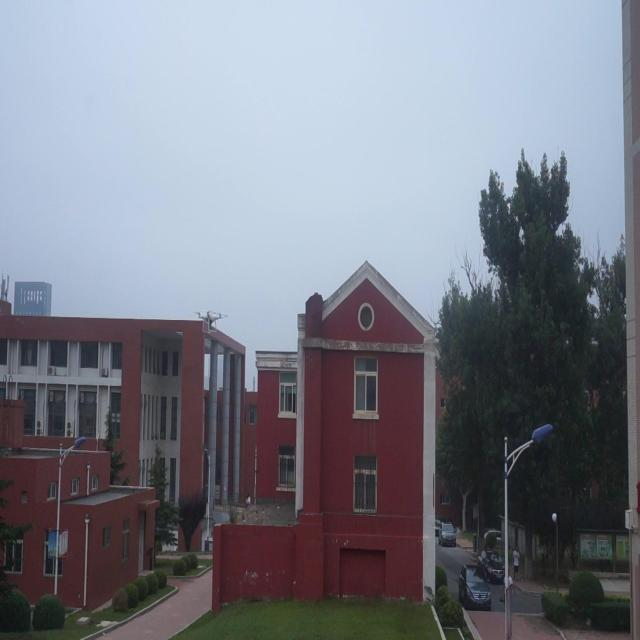drone: (195, 304, 229, 337)
